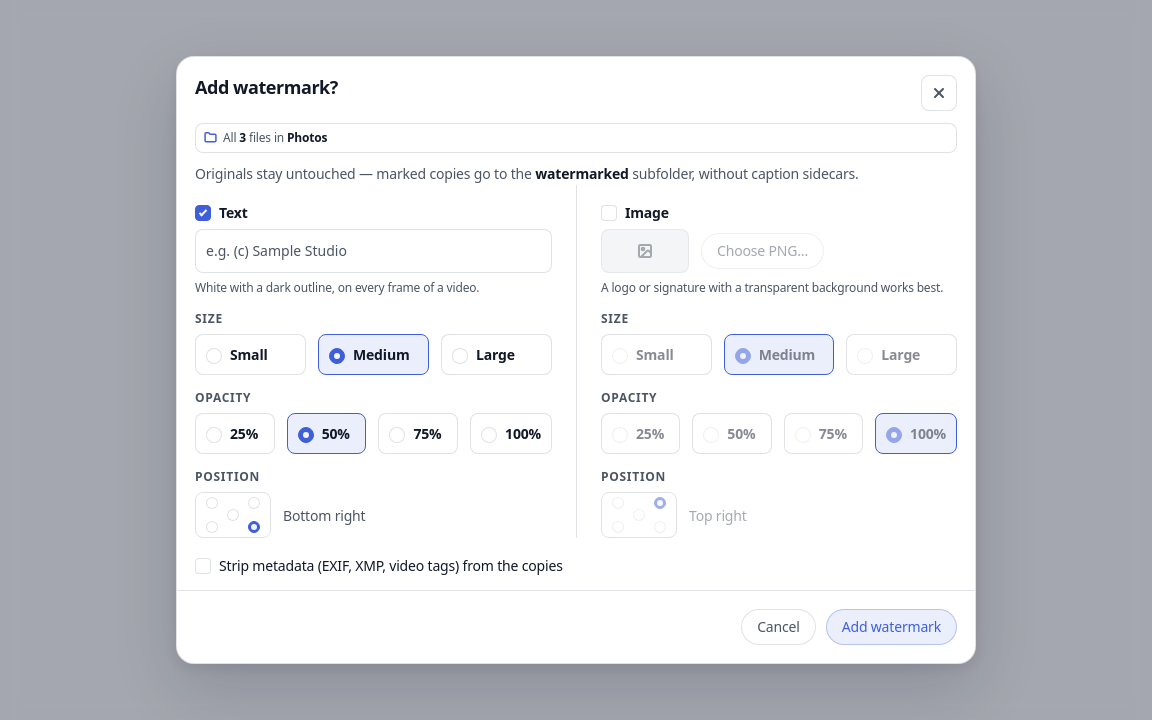
Test case: WatermarkDialog › disables each column while its mark is off
Expected: the button "Choose PNG..." is disabled, left=701, top=233, right=824, bottom=269
Click the checkbox labelled "Image". click: (635, 213)
box: left=601, top=205, right=669, bottom=221
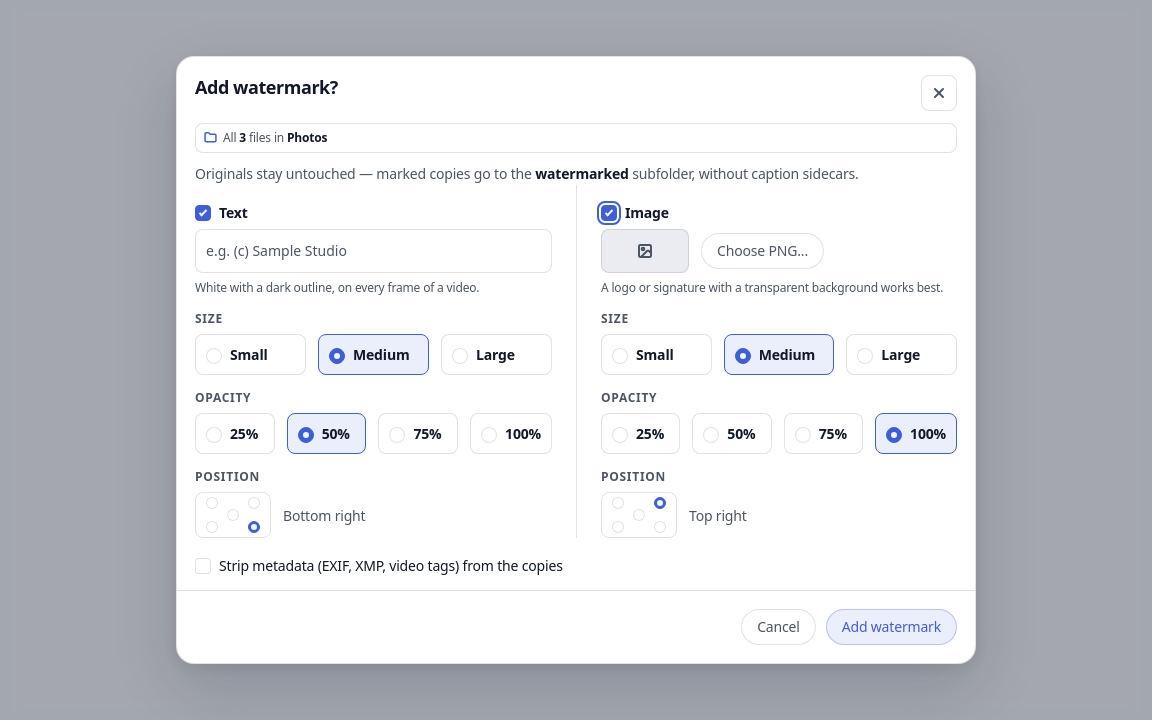
Click the checkbox labelled "Text". click: (221, 213)
box: left=195, top=205, right=248, bottom=221
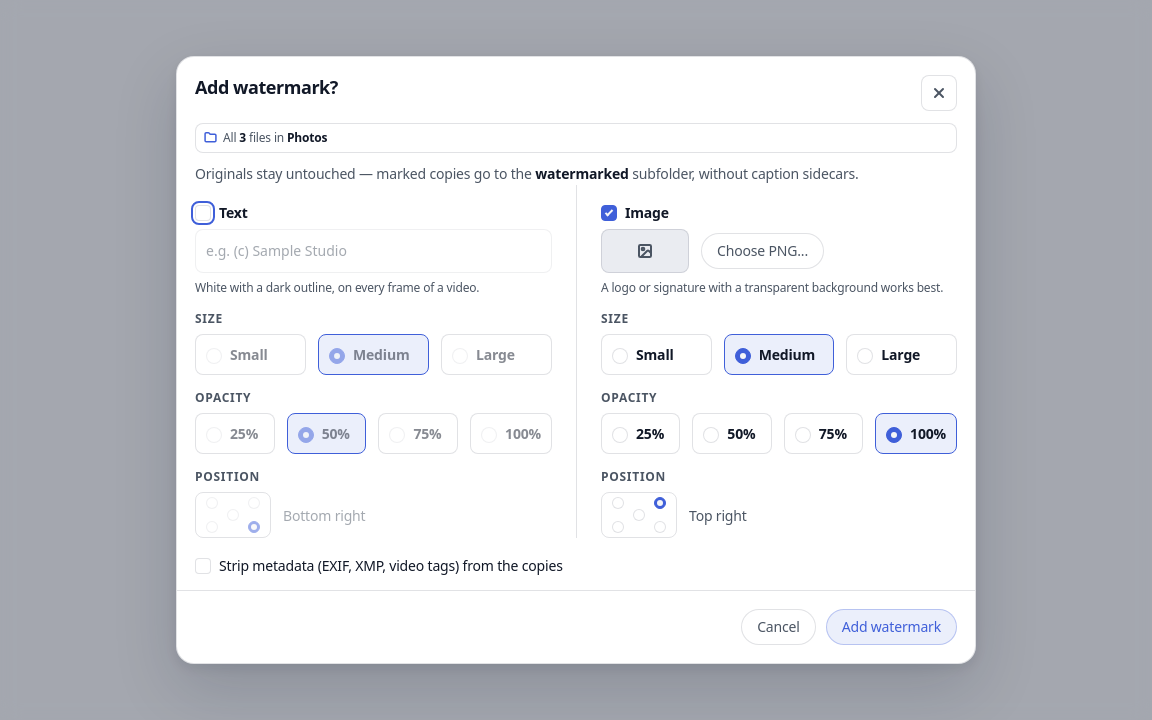
Result: the button "Choose PNG..." is enabled at left=701, top=233, right=824, bottom=269
Result: the field named "Watermark text" is disabled at left=195, top=229, right=552, bottom=273
Result: the radio button labelled "Large" below "Text" is disabled at left=441, top=334, right=552, bottom=375
